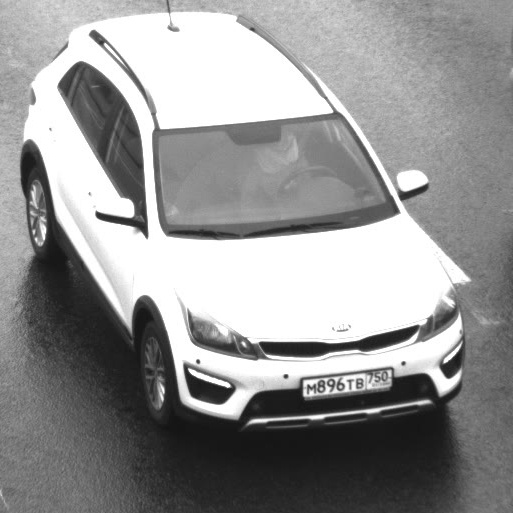plate: (290, 355, 401, 407)
